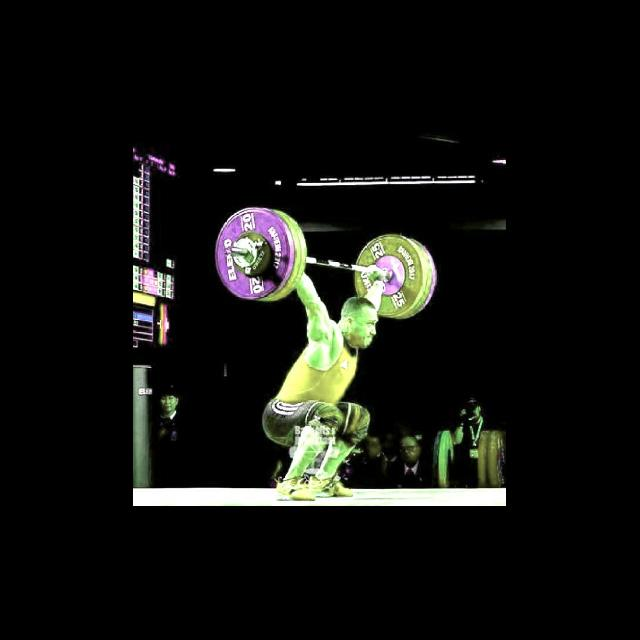barbell: (203, 195, 311, 307)
